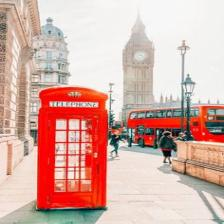red: (36, 97, 106, 208), (127, 117, 182, 146), (90, 119, 107, 201), (191, 106, 224, 142), (39, 88, 108, 101), (50, 107, 104, 120), (99, 102, 106, 109)
